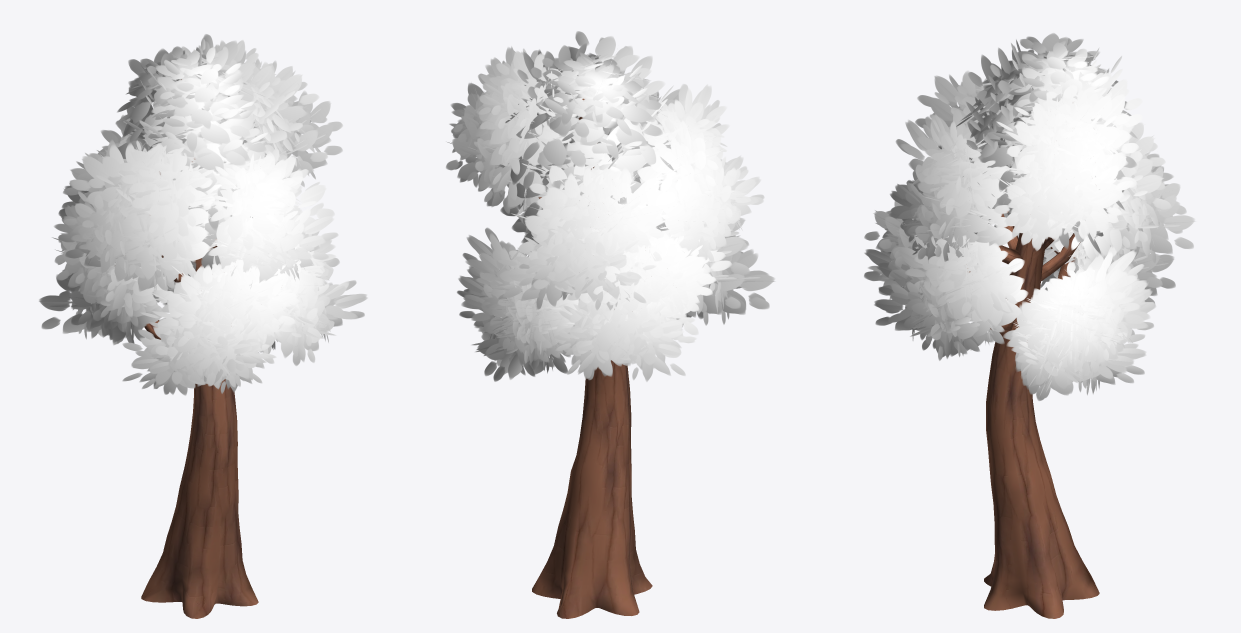
Rendered from tree-1.glb.
The picture shows the model from 3 angles, left to right: view 1: azimuth 30°, elevation 25°; view 2: azimuth 150°, elevation 25°; view 3: azimuth 270°, elevation 25°; orthographic projection. The views are drawn at different scales.
Visible parts, largest first — view 1: tree_023; view 2: tree_023; view 3: tree_023.
Boxes of the visible parts, x1,y1,x2,y2 form: tree_023: (39, 34, 367, 618); tree_023: (446, 31, 775, 618); tree_023: (864, 33, 1195, 618).
Size of the model in its own units: 4.31 by 7.26 by 4.58.
Materials: 2 (2 with a texture image).
